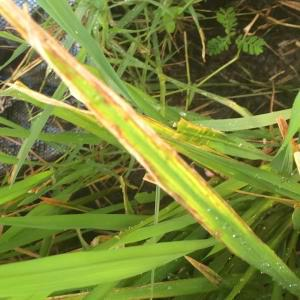2 BacterialBlight: (119, 140, 181, 194)
